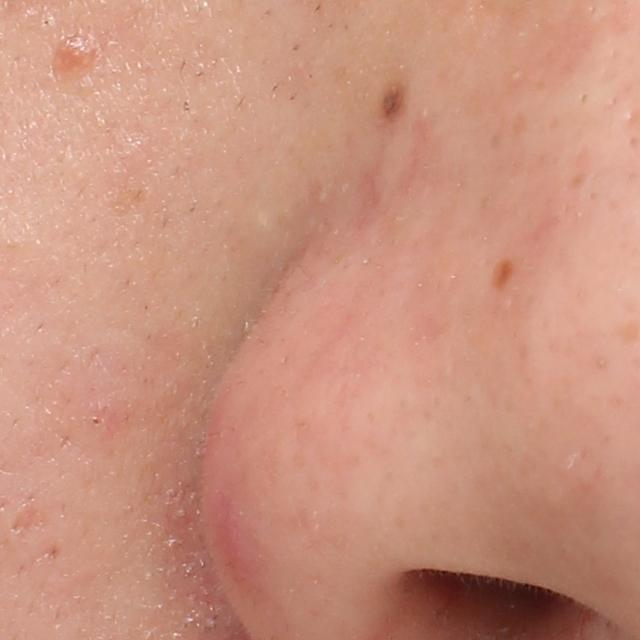atrophic_scar: (7, 504, 49, 546)
comedo: (39, 14, 58, 30)
nevus: (378, 78, 411, 123), (492, 255, 515, 291)
papule: (48, 32, 105, 79)
